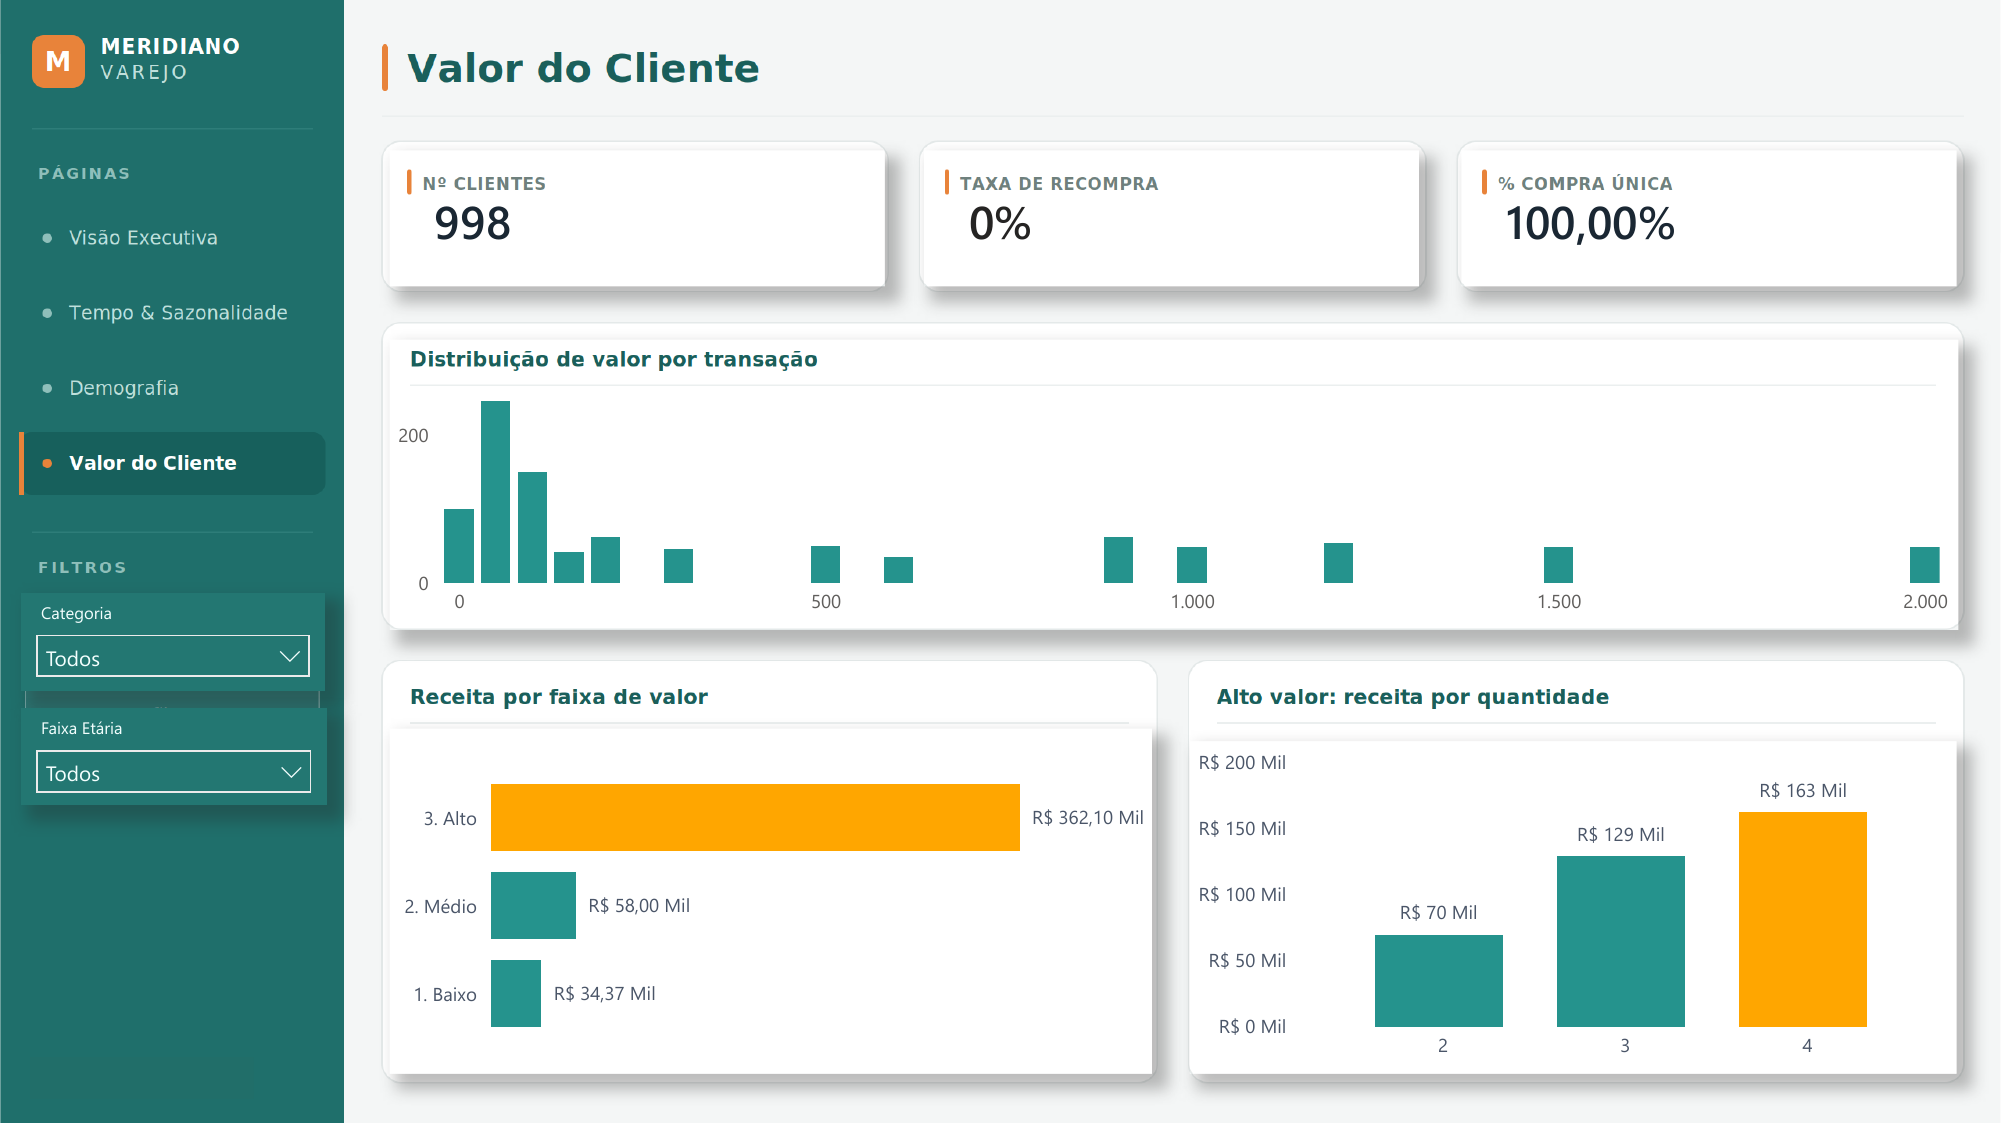

This screenshot's page, from the dashboard's own definition file:
{"tool":"powerbi","page":{"name":"Valor do Cliente","canvas":[1280,720],"ordinal":3},"visuals":[{"type":"cardVisual","fields":{"Data":["_Medidas.N° Clientes"]},"box":[249,96,317,87],"z":0},{"type":"barChart","fields":{"Category":["fVendas.Faixa de Valor"],"Y":["_Medidas.Receita Total"]},"box":[248.6,465.7,488.6,221.4],"z":1000},{"type":"columnChart","fields":{"Category":["fVendas.Quantidade"],"Y":["_Medidas.Receita Total"]},"box":[761.1,474.4,491.1,212.2],"z":2000},{"type":"cardVisual","fields":{"Data":["_Medidas.Taxa de Recompra"]},"box":[591,96,317,87],"z":3000},{"type":"cardVisual","fields":{"Data":["_Medidas.% Compra Única"]},"box":[935,96,317,87],"z":4000},{"type":"clusteredColumnChart","fields":{"Category":["fVendas.Valor Total (compartimentos)"],"Y":["CountNonNull(fVendas.ID Transações)"]},"box":[248.6,217.1,1004.3,185.7],"z":5000},{"type":"slicer","fields":{"Values":["fVendas.Categoria Produto"]},"box":[13.2,379.5,195.3,62.6],"z":6000},{"type":"slicer","fields":{"Values":["fVendas.Faixa Etária"]},"box":[13.3,452.7,195.3,62.7],"z":7000},{"type":"shape","box":[18.8,675.6,143.1,27.5],"z":8000},{"type":"actionButton","box":[18.6,132.9,189.3,41.4],"z":9000},{"type":"actionButton","box":[18.6,182.9,189.3,39.3],"z":10000},{"type":"actionButton","box":[18.6,227.9,193.6,41.4],"z":11000},{"type":"actionButton","box":[7.1,276.4,201.4,41.4],"z":12000}]}

Visuals, with their boxes on the page's 1280x720 design canvas (x1, y1, x2, y2). These are canvas units, not pixel positions in the 2001x1123 screenshot, which may show the page scaled, cropped or inside an application window:
cardVisual - _Medidas.N° Clientes: bbox=(249, 96, 566, 183)
barChart - fVendas.Faixa de Valor x _Medidas.Receita Total: bbox=(249, 466, 737, 687)
columnChart - fVendas.Quantidade x _Medidas.Receita Total: bbox=(761, 474, 1252, 687)
cardVisual - _Medidas.Taxa de Recompra: bbox=(591, 96, 908, 183)
cardVisual - _Medidas.% Compra Única: bbox=(935, 96, 1252, 183)
clusteredColumnChart - fVendas.Valor Total (compartimentos) x CountNonNull(fVendas.ID Transações): bbox=(249, 217, 1253, 403)
slicer - fVendas.Categoria Produto: bbox=(13, 380, 208, 442)
slicer - fVendas.Faixa Etária: bbox=(13, 453, 209, 515)
shape: bbox=(19, 676, 162, 703)
actionButton: bbox=(19, 133, 208, 174)
actionButton: bbox=(19, 183, 208, 222)
actionButton: bbox=(19, 228, 212, 269)
actionButton: bbox=(7, 276, 208, 318)
